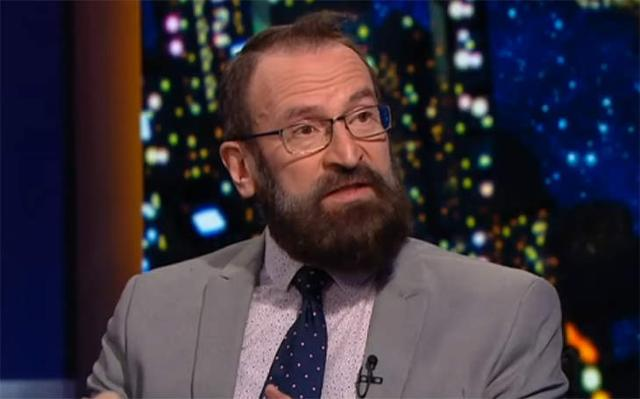forehead: (285, 74, 313, 98), (317, 72, 343, 92), (344, 58, 360, 84)
